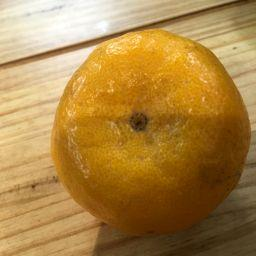Unripe: (51, 27, 256, 233)
